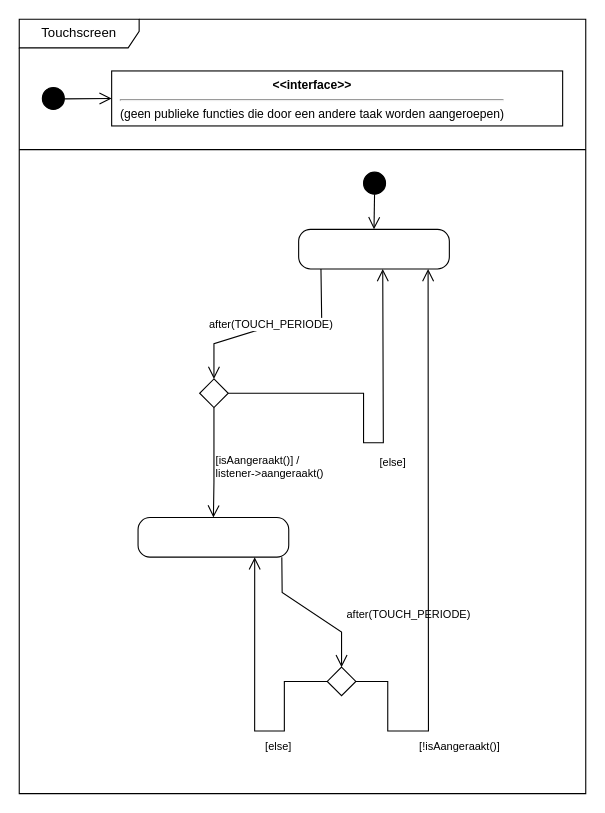
Some shapes in this 605 by 813 pixel diagram are drawn without their labels. The centre of each missing label's shape, as x and y in pixels:
"Aangeraakt" belongs at point (213, 536).
"Wachten" belongs at point (373, 248).
